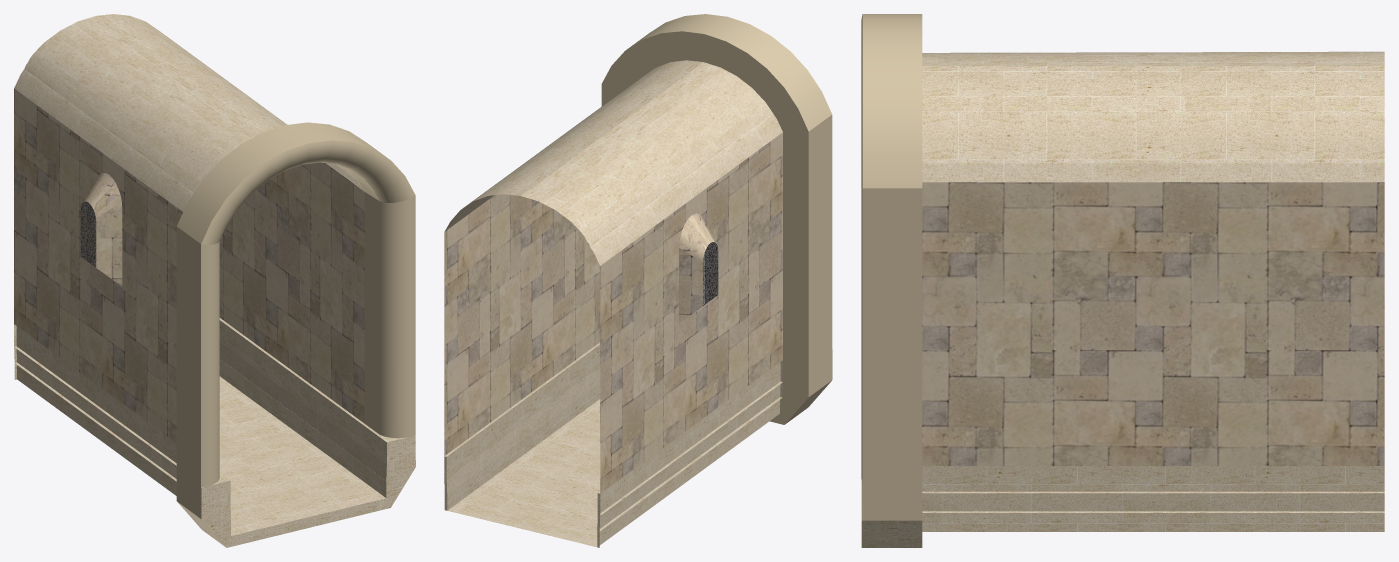
Rendered from pasillo entre habitaciones.fbx.
3 renders of one model, left to right at view 1: azimuth 30°, elevation 25°; view 2: azimuth 150°, elevation 25°; view 3: azimuth 270°, elevation 25°, orthographic. The views are drawn at different scales.
Parts seen in each view (by area): view 1: Model; view 2: Model; view 3: Model.
Part boxes in pixels (left/top/right/bottom): Model: left=14, top=14, right=415, bottom=547; Model: left=444, top=14, right=832, bottom=547; Model: left=861, top=14, right=1384, bottom=547.
Bounding box in the file's own units: 1.72 × 2.95 × 2.98.
